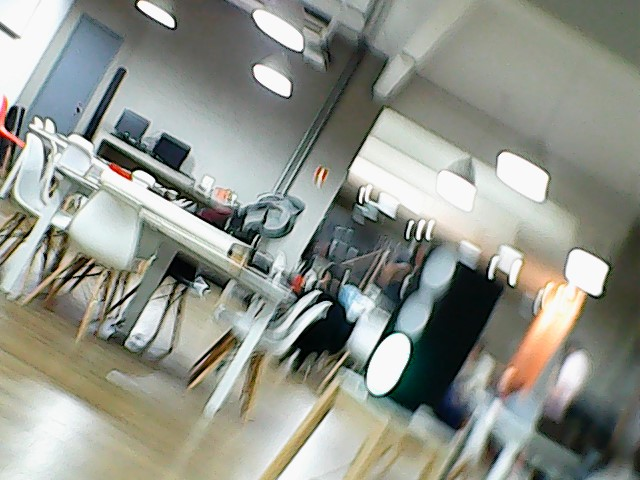verde: (360, 247, 519, 436)
